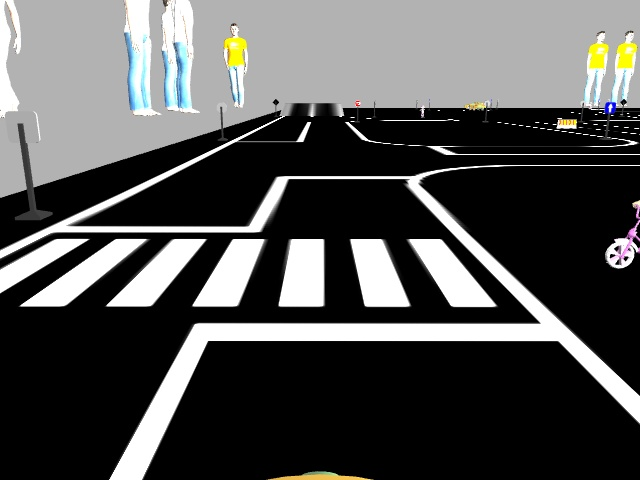Pedestrian: (606, 186, 638, 272)
